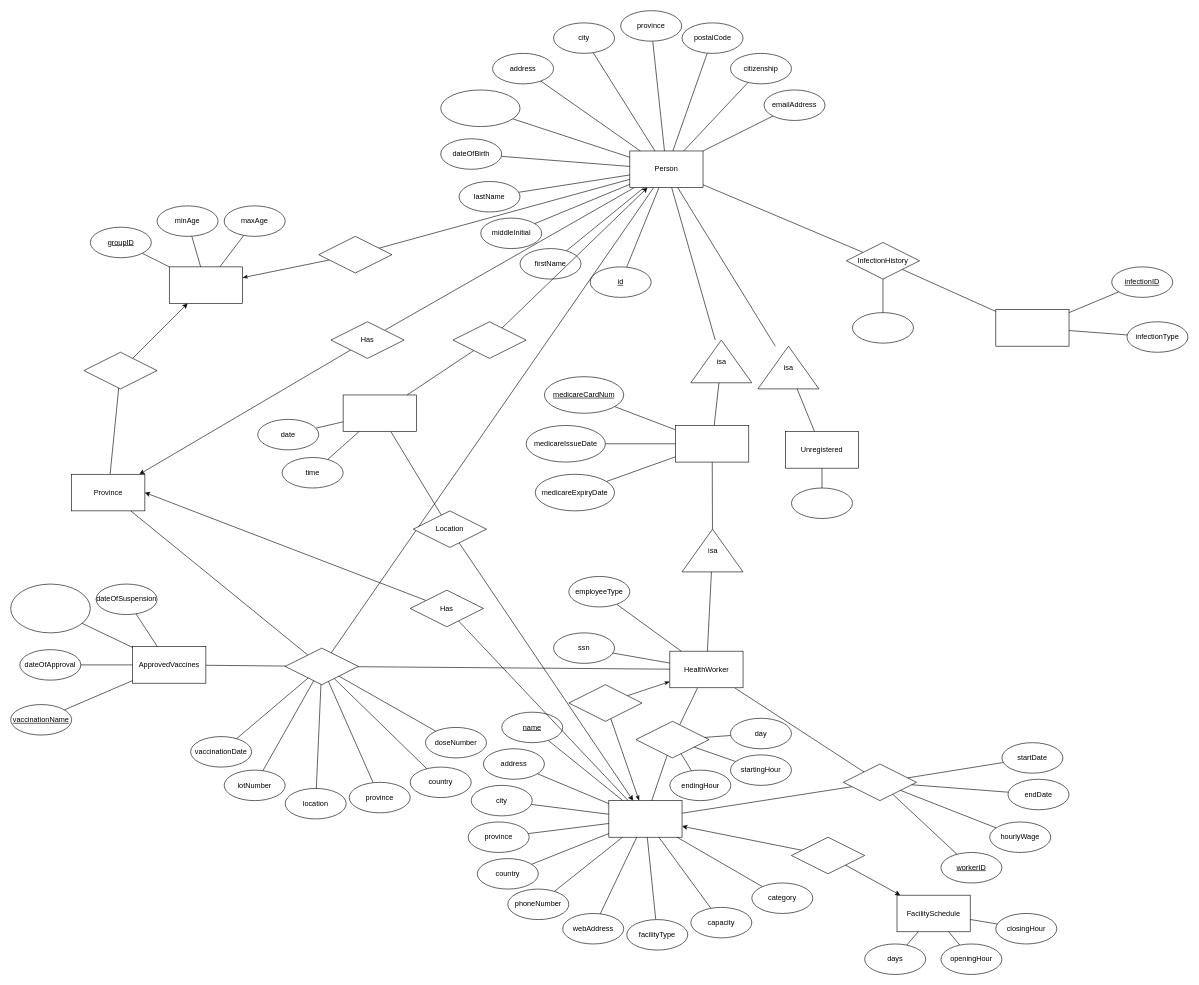
This 1199x985 diagram has some shape labels left out. Here are the shapes that lost their labels. From the top down, the box of each, then its label:
(440, 89, 520, 127): telephoneNumber
(318, 236, 392, 273): Has A
(169, 266, 242, 303): AgeGroups
(452, 321, 526, 358): Booking
(852, 312, 913, 343): infectionDate
(995, 309, 1069, 346): InfectionTypes
(83, 352, 157, 389): VaccinationAge
(343, 394, 416, 432): Appointments
(675, 425, 749, 462): Registered
(791, 487, 852, 518): passportNum
(10, 583, 90, 633): vaccinationType (SAFE/SUSPENDED)
(285, 648, 358, 685): Vaccinations
(568, 684, 642, 721): Manages
(635, 721, 709, 758): WorkerSchedule
(843, 763, 917, 801): Assignments
(608, 800, 682, 837): PublicHealthFacilities
(791, 837, 865, 874): Operating Hours
